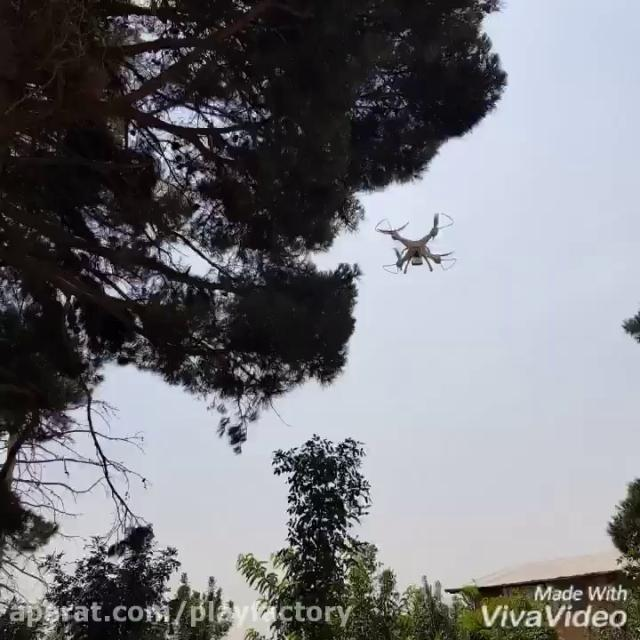drone: (374, 210, 459, 278)
